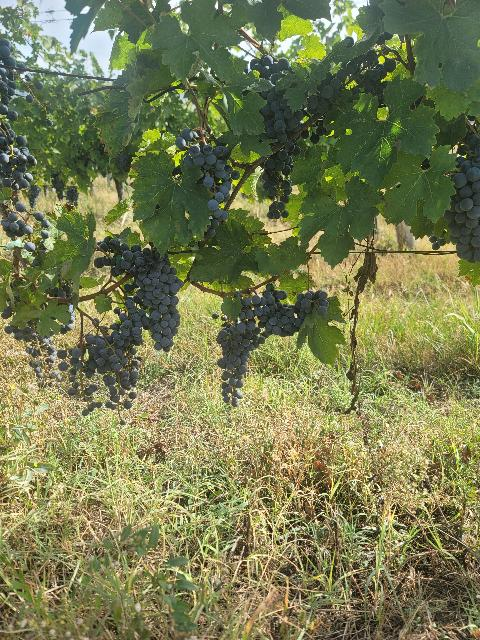grapes: (250, 55, 304, 219), (175, 129, 240, 239), (306, 49, 396, 115), (85, 309, 142, 409), (94, 236, 182, 295), (216, 292, 261, 406), (444, 134, 480, 262), (125, 288, 176, 350), (250, 284, 305, 338), (59, 348, 102, 415), (294, 290, 329, 328)
